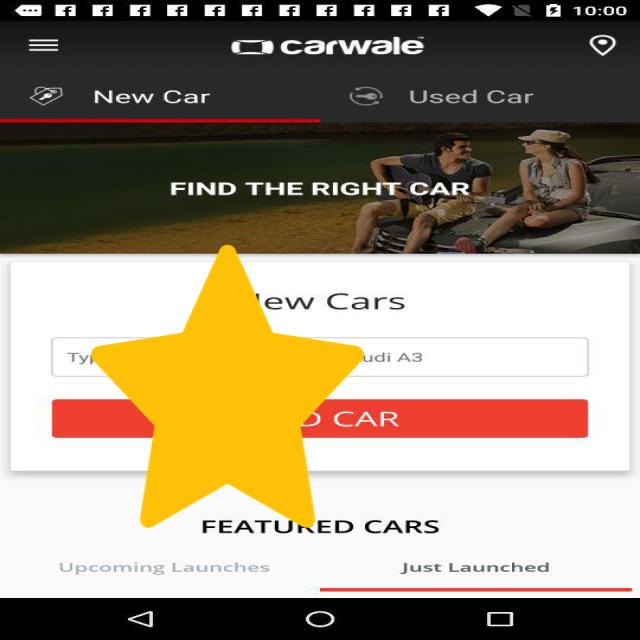forced continuity: (91, 245, 364, 528)
